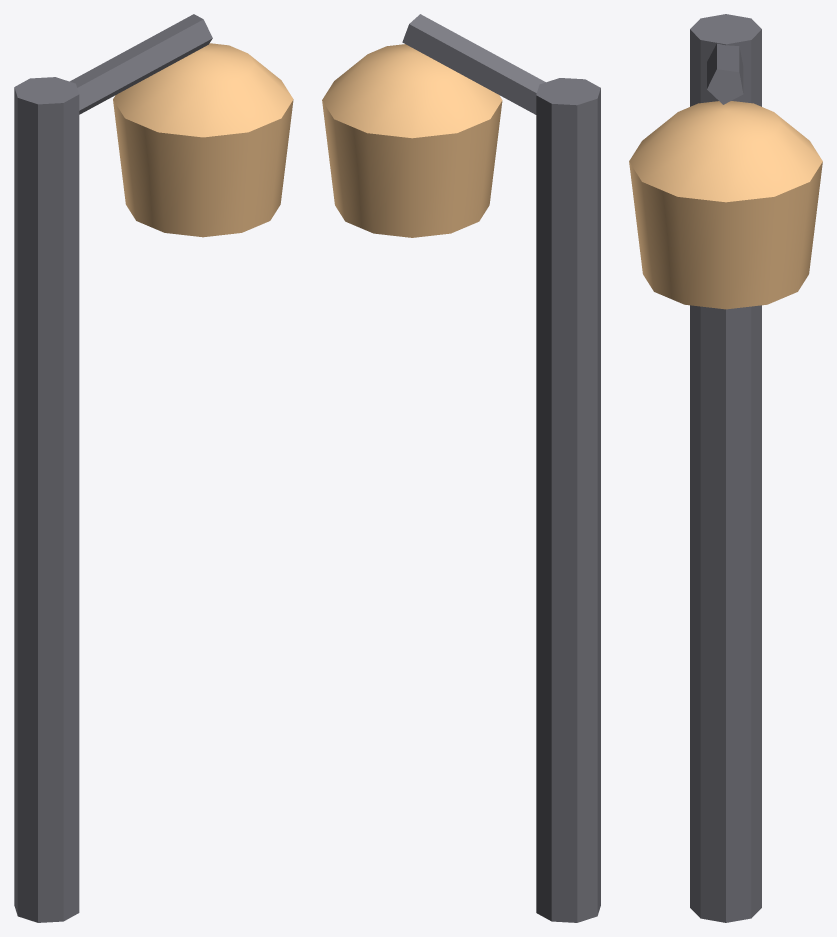
Rendered from WallLantern_Post.fbx.
3 views of the same model, side by side, from view 1: azimuth 30°, elevation 25°; view 2: azimuth 150°, elevation 25°; view 3: azimuth 270°, elevation 25° (orthographic). The views are drawn at different scales.
Visible parts, largest first — view 1: WallLantern_Post; view 2: WallLantern_Post; view 3: WallLantern_Post.
Part boxes in pixels (bbox=[...]): WallLantern_Post: bbox=[14, 14, 293, 922]; WallLantern_Post: bbox=[322, 14, 600, 922]; WallLantern_Post: bbox=[629, 14, 822, 922].
Bounding box in the file's own units: 1.18 × 3.66 × 0.7.
